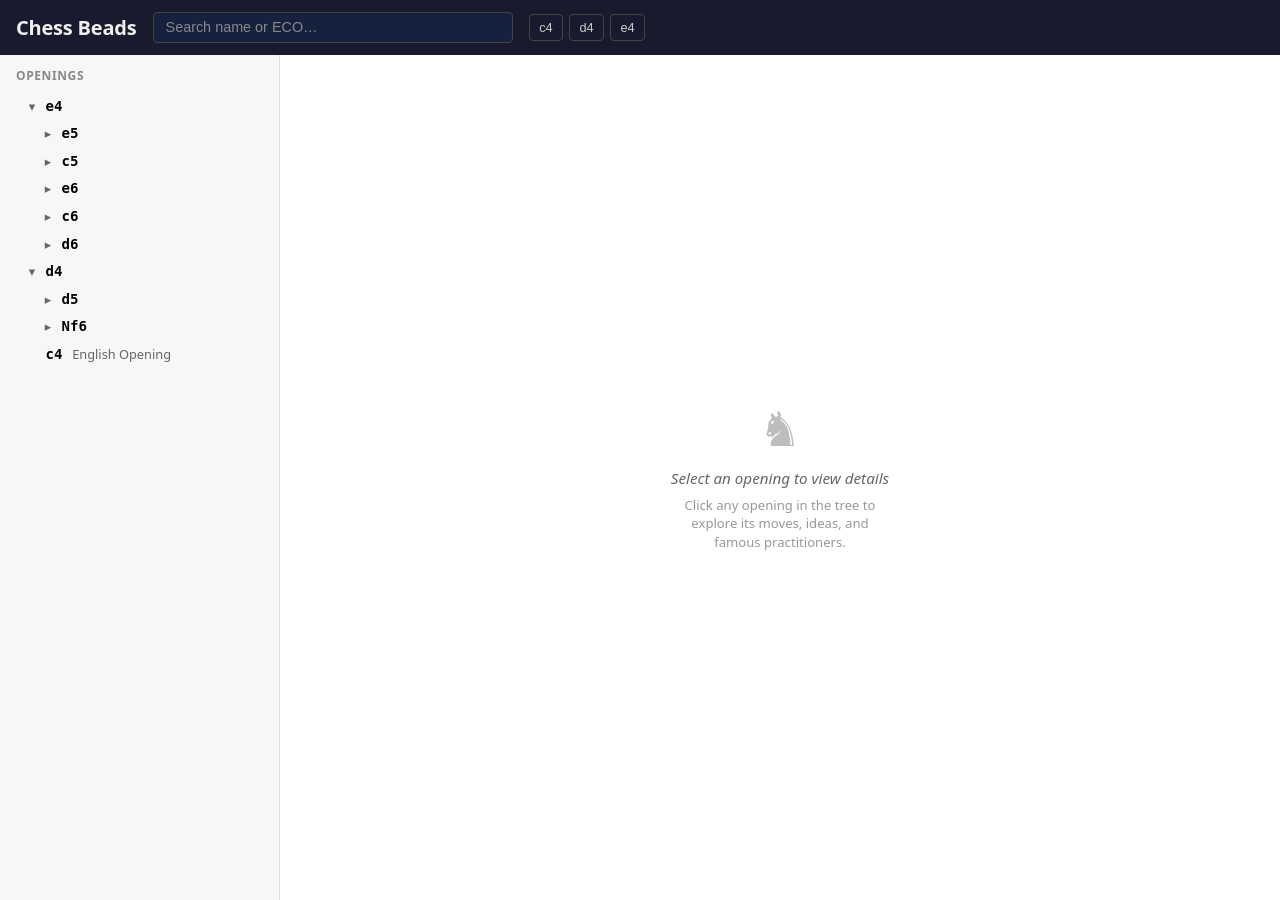
Test: App state management › selecting a tree opening updates the details panel
Click the list item "c4" at (108, 354), box [46,345,171,363]
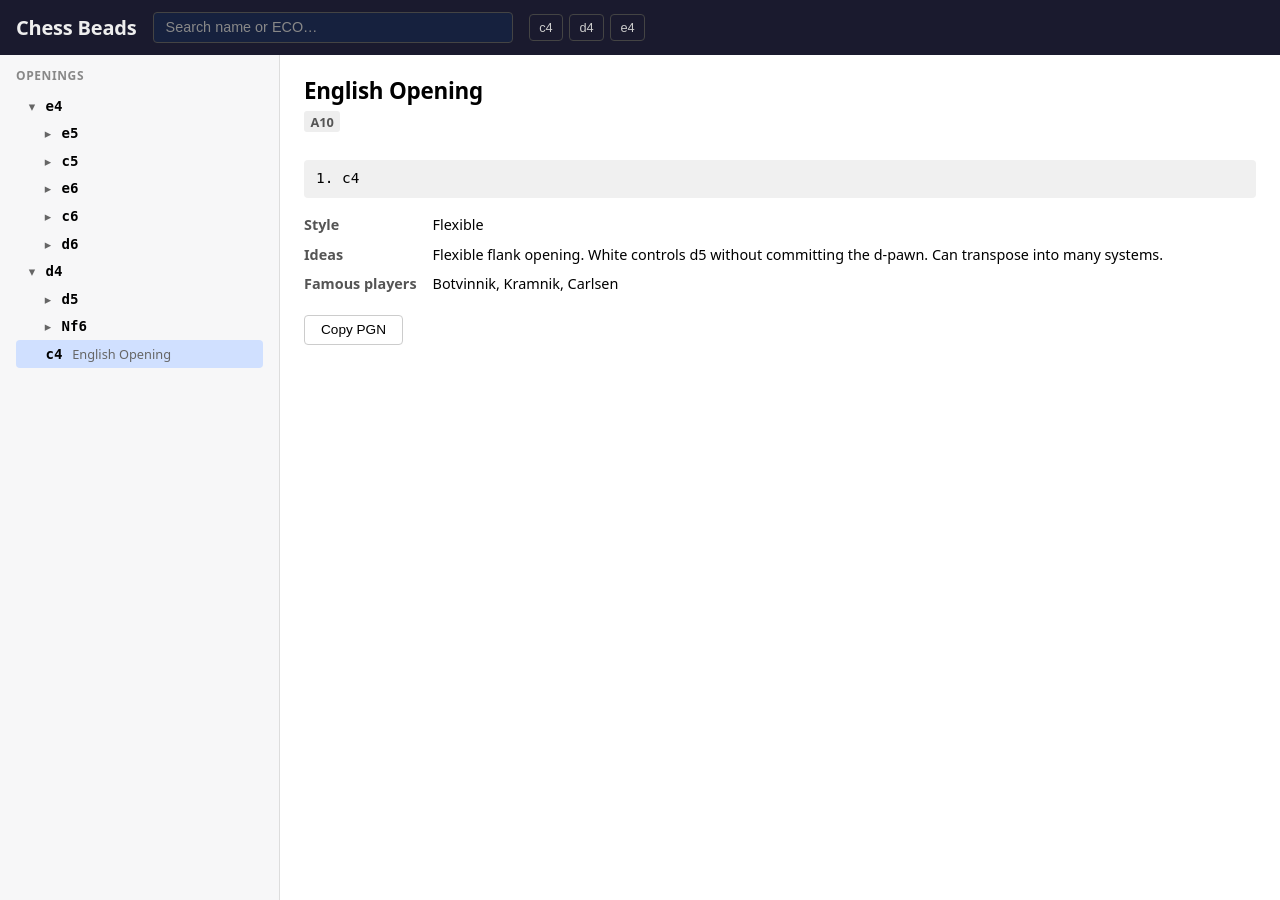
Check: the text "A10" is shown, box [304,111,340,132]
Check: the text "flexible" is shown, box [433,215,484,234]
